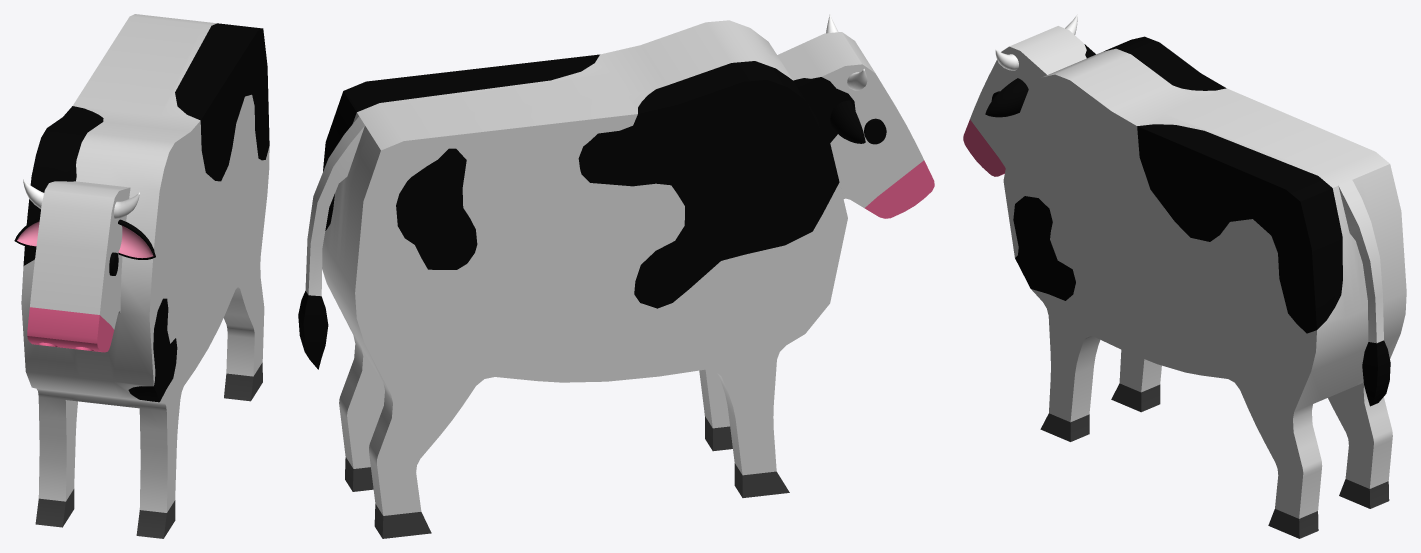
File: cow.fbx
3 renders of one model, left to right at view 1: azimuth 30°, elevation 25°; view 2: azimuth 150°, elevation 25°; view 3: azimuth 270°, elevation 25°, orthographic. The views are drawn at different scales.
Visible parts, largest first — view 1: Plane.120, Cube.6229, Circle.1894; view 2: Plane.120, Cube.6229; view 3: Plane.120, Cube.6229.
Boxes of the visible parts, <box> form: Plane.120: <box>21,14,269,538</box>; Cube.6229: <box>14,217,155,259</box>; Circle.1894: <box>23,179,139,219</box>; Plane.120: <box>298,20,934,538</box>; Cube.6229: <box>830,100,865,143</box>; Plane.120: <box>963,26,1406,538</box>; Cube.6229: <box>985,78,1028,117</box>.
Size of the model in its own units: 217 by 196 by 217.
Materials: 1 (1 with a texture image).
